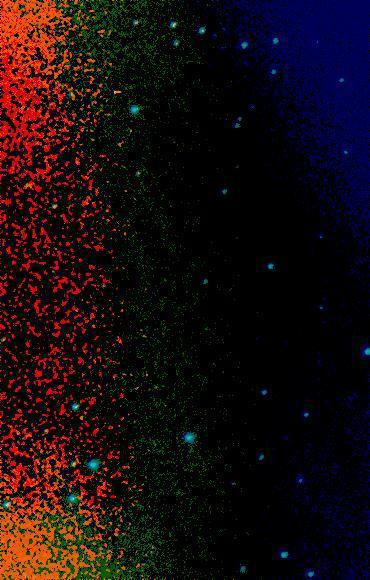star: (108, 74, 138, 104)
